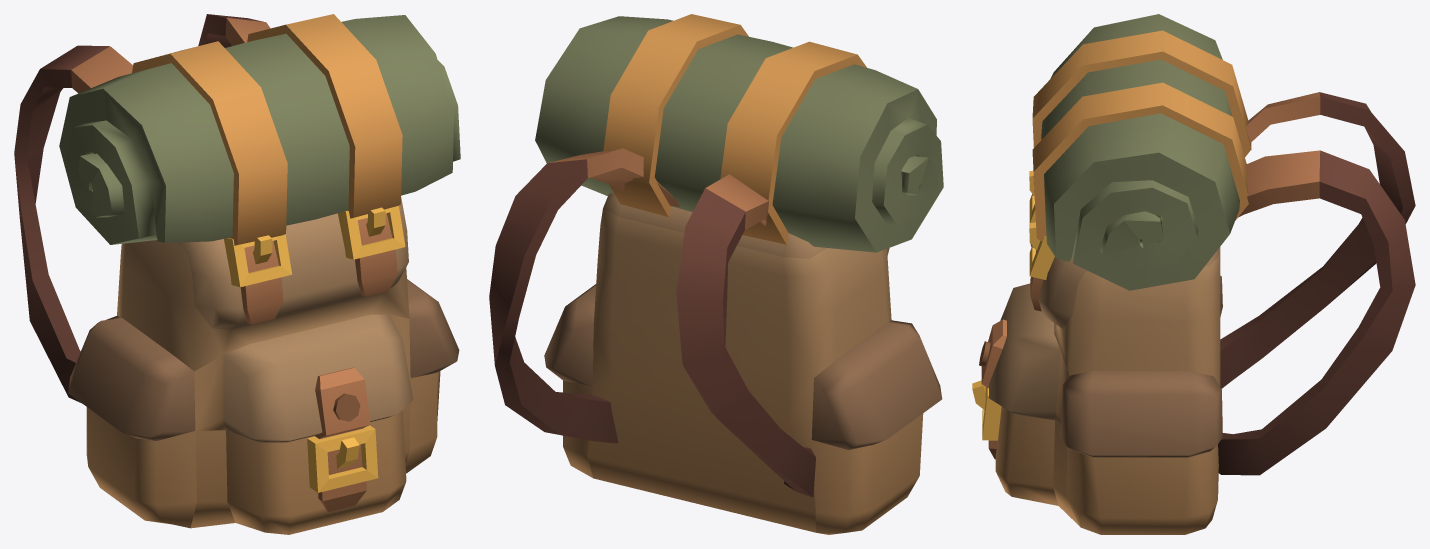
The model's file is Bagpack_4.fbx.
The picture shows the model from 3 angles, left to right: view 1: azimuth 30°, elevation 25°; view 2: azimuth 150°, elevation 25°; view 3: azimuth 270°, elevation 25°; orthographic projection. The views are drawn at different scales.
Parts seen in each view (by area): view 1: Bagpack_4; view 2: Bagpack_4; view 3: Bagpack_4.
Boxes of the visible parts, x1,y1,x2,y2 form: Bagpack_4: (14, 14, 460, 534); Bagpack_4: (489, 14, 943, 534); Bagpack_4: (972, 14, 1415, 534).
Size of the model in its own units: 58.45 by 71.11 by 68.8.
